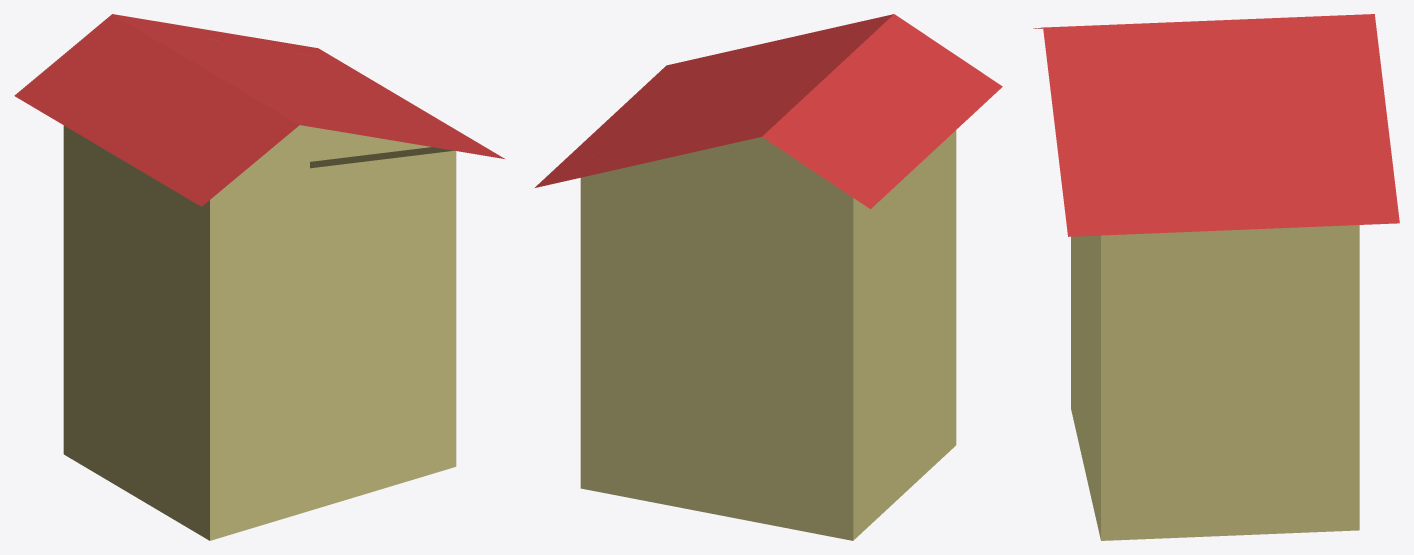
3 views of the same model, side by side, from view 1: azimuth 30°, elevation 25°; view 2: azimuth 150°, elevation 25°; view 3: azimuth 270°, elevation 25° (orthographic). The views are drawn at different scales.
Size of the model in its own units: 5.67 by 5.02 by 6.32.
